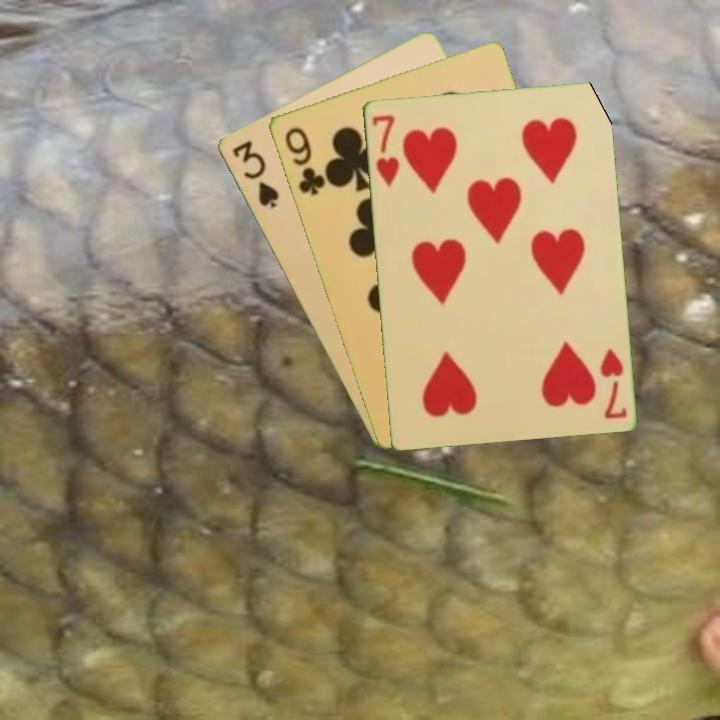3s: (228, 136, 282, 211)
7h: (368, 111, 402, 190), (596, 344, 629, 422)
9c: (280, 123, 328, 198)
